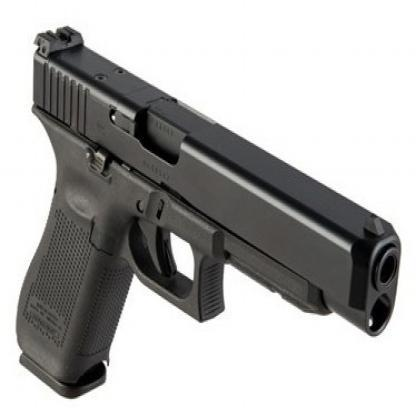Pistol: (14, 26, 402, 398)
